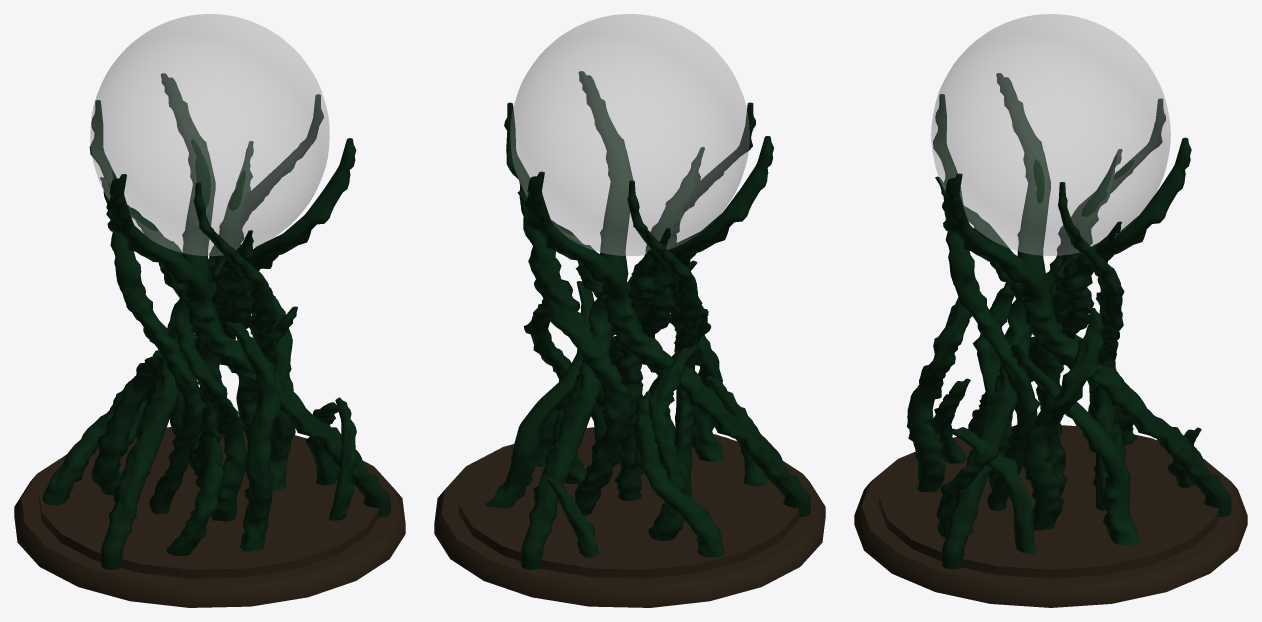
Rendered from crystal_ball.glb.
3 views of the same model, side by side, from view 1: azimuth 30°, elevation 25°; view 2: azimuth 150°, elevation 25°; view 3: azimuth 270°, elevation 25° (orthographic).
Visible parts, largest first — view 1: Object_2, Object_7, Object_3, Object_4, Object_5, Object_6; view 2: Object_2, Object_7, Object_5, Object_3, Object_4, Object_6; view 3: Object_2, Object_7, Object_3, Object_5, Object_4, Object_6.
Boxes of the visible parts, left/top/right/bottom form: Object_2: left=90, top=14, right=329, bottom=255; Object_7: left=14, top=427, right=405, bottom=607; Object_3: left=42, top=73, right=356, bottom=555; Object_4: left=101, top=75, right=390, bottom=569; Object_5: left=89, top=96, right=356, bottom=513; Object_6: left=100, top=178, right=219, bottom=476; Object_2: left=510, top=14, right=749, bottom=255; Object_7: left=434, top=427, right=825, bottom=607; Object_5: left=504, top=73, right=755, bottom=569; Object_3: left=485, top=71, right=770, bottom=558; Object_4: left=518, top=137, right=810, bottom=517; Object_6: left=621, top=229, right=670, bottom=501; Object_2: left=931, top=14, right=1170, bottom=255; Object_7: left=854, top=425, right=1247, bottom=607; Object_3: left=906, top=73, right=1201, bottom=553; Object_5: left=933, top=96, right=1231, bottom=516; Object_4: left=935, top=74, right=1191, bottom=569; Object_6: left=1042, top=150, right=1121, bottom=472.
Bounding box in the file's own units: 11.23 × 15.75 × 11.23.
3 materials, 1 textured.
